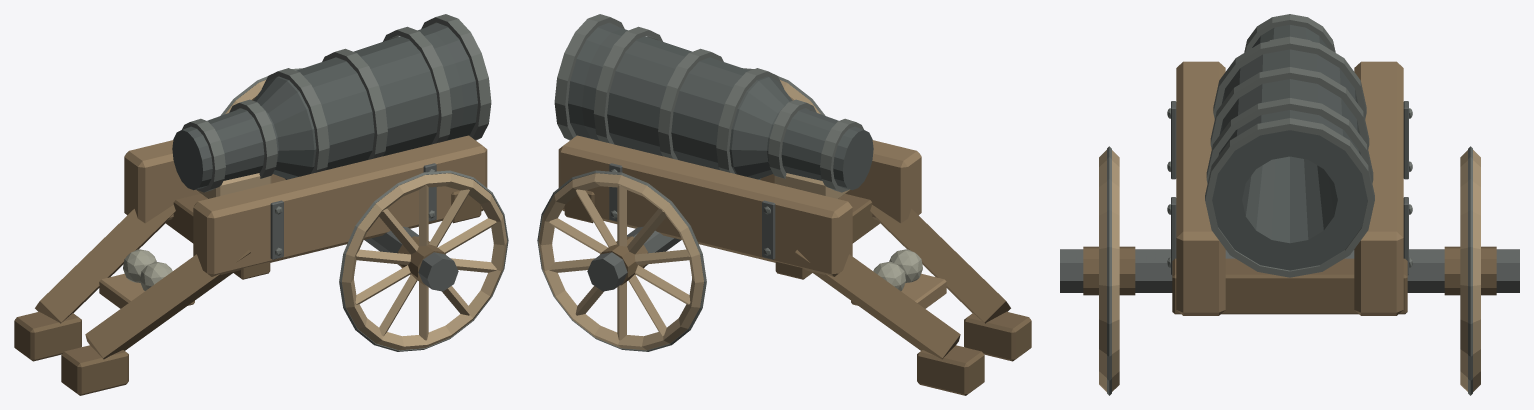
The model's file is artillery_houfnice.glb.
The picture shows the model from 3 angles, left to right: view 1: azimuth 30°, elevation 25°; view 2: azimuth 150°, elevation 25°; view 3: azimuth 270°, elevation 25°; orthographic projection. The views are drawn at different scales.
Visible parts, largest first — view 1: artillery_houfnice_oak, artillery_houfnice_gun_iron, artillery_houfnice_oak_dark, artillery_houfnice_oak_light, artillery_houfnice_gun_bands, artillery_houfnice_iron, artillery_houfnice_stone; view 2: artillery_houfnice_oak, artillery_houfnice_gun_iron, artillery_houfnice_oak_dark, artillery_houfnice_oak_light, artillery_houfnice_gun_bands, artillery_houfnice_iron, artillery_houfnice_stone; view 3: artillery_houfnice_gun_iron, artillery_houfnice_oak, artillery_houfnice_gun_bands, artillery_houfnice_oak_dark, artillery_houfnice_oak_light, artillery_houfnice_iron.
Boxes of the visible parts, x1,y1,x2,y2 form: artillery_houfnice_oak: (99,135,487,308); artillery_houfnice_gun_iron: (172,23,477,190); artillery_houfnice_oak_dark: (14,190,481,395); artillery_houfnice_oak_light: (196,80,507,350); artillery_houfnice_gun_bands: (182,14,508,351); artillery_houfnice_iron: (270,163,458,291); artillery_houfnice_stone: (123,249,172,290); artillery_houfnice_oak: (558,135,946,308); artillery_houfnice_gun_iron: (568,23,873,190); artillery_houfnice_oak_dark: (564,190,1031,395); artillery_houfnice_oak_light: (538,80,849,350); artillery_houfnice_gun_bands: (537,14,863,351); artillery_houfnice_iron: (587,163,775,291); artillery_houfnice_stone: (873,249,922,290); artillery_houfnice_gun_iron: (1212,25,1367,270); artillery_houfnice_oak: (1176,61,1403,315); artillery_houfnice_gun_bands: (1107,14,1472,395); artillery_houfnice_oak_dark: (1083,246,1496,314); artillery_houfnice_oak_light: (1099,150,1480,391); artillery_houfnice_iron: (1060,101,1519,292).
Bounding box in the file's own units: 2.24 × 1.32 × 1.68.
